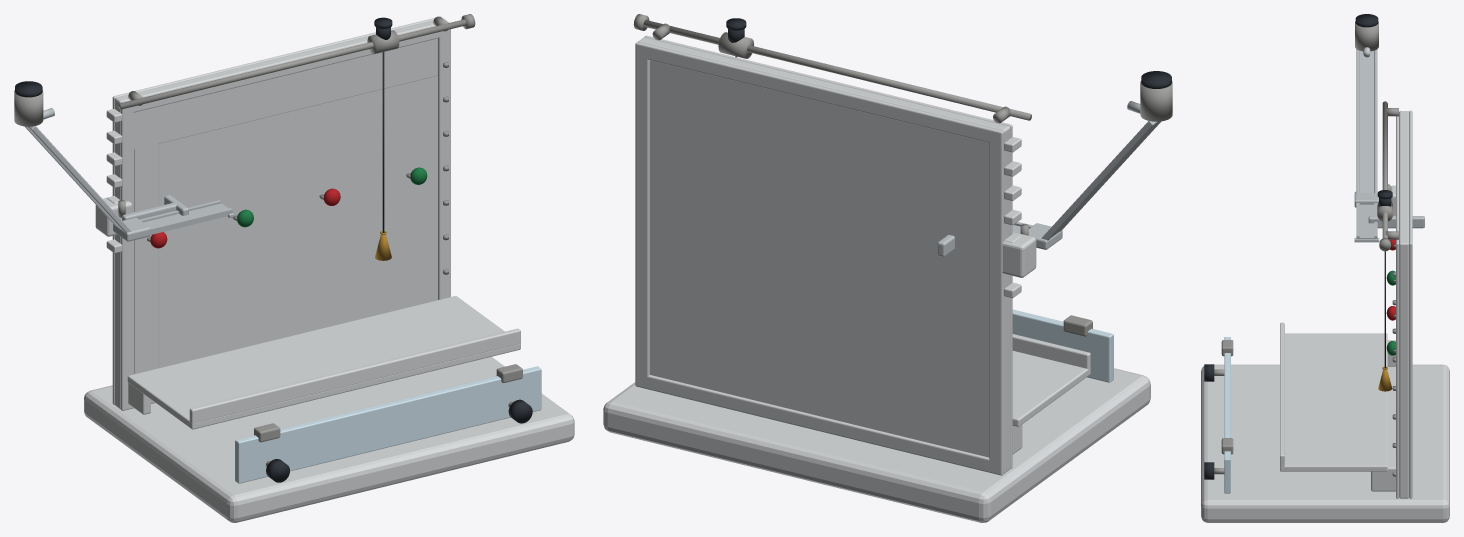
The model's file is thrower.glb.
3 renders of one model, left to right at view 1: azimuth 30°, elevation 25°; view 2: azimuth 150°, elevation 25°; view 3: azimuth 270°, elevation 25°, orthographic. The views are drawn at different scales.
Visible parts, largest first — view 1: board, base, catch_floor, acrylic, ruler_top, catch_lip, ruler_side, frame_v-1f, frame_v1f, frame_h1f, rod, chute_level_floor (+4 smaller); view 2: board, base, frame_h1b, frame_h0b, frame_v1b, frame_v-1b, catch_floor, acrylic, rod, catch_lip, chute_clamp, chute_ramp_rim1 (+4 smaller); view 3: base, catch_floor, board, chute_ramp_floor, frame_v1f, frame_v1b, acrylic, catch_lip, rod, magnet_body, chute_ramp_rim-1, chute_ramp_rim1 (+6 smaller).
Part boxes in pixels (<box>): board: <box>115,18,447,408</box>; base: <box>84,357,574,522</box>; catch_floor: <box>127,296,520,429</box>; acrylic: <box>235,366,541,483</box>; ruler_top: <box>133,38,437,149</box>; catch_lip: <box>189,328,520,423</box>; ruler_side: <box>134,109,158,373</box>; frame_v-1f: <box>120,101,133,409</box>; frame_v1f: <box>438,22,450,299</box>; frame_h1f: <box>120,22,450,114</box>; rod: <box>118,19,466,109</box>; chute_level_floor: <box>143,203,232,234</box>; board: <box>638,37,1010,473</box>; base: <box>603,368,1150,522</box>; frame_h1b: <box>635,42,1003,144</box>; frame_h0b: <box>635,374,1003,475</box>; frame_v1b: <box>635,42,649,387</box>; frame_v-1b: <box>989,129,1003,475</box>; catch_floor: <box>1012,351,1090,426</box>; acrylic: <box>1012,309,1113,382</box>; rod: <box>643,20,1031,120</box>; catch_lip: <box>1012,334,1090,369</box>; chute_clamp: <box>1002,232,1036,277</box>; chute_ramp_rim1: <box>1041,121,1154,240</box>; base: <box>1201,364,1449,522</box>; catch_floor: <box>1280,333,1387,471</box>; board: <box>1399,111,1409,498</box>; chute_ramp_floor: <box>1359,51,1374,192</box>; frame_v1f: <box>1396,239,1399,498</box>; frame_v1b: <box>1409,239,1412,497</box>; acrylic: <box>1224,337,1230,493</box>; catch_lip: <box>1280,322,1284,466</box>; rod: <box>1382,101,1387,238</box>; magnet_body: <box>1355,21,1378,51</box>; chute_ramp_rim-1: <box>1356,49,1359,193</box>; chute_ramp_rim1: <box>1374,49,1377,193</box>.
Bounding box in the file's own units: 0.5385 × 0.432 × 0.3.
